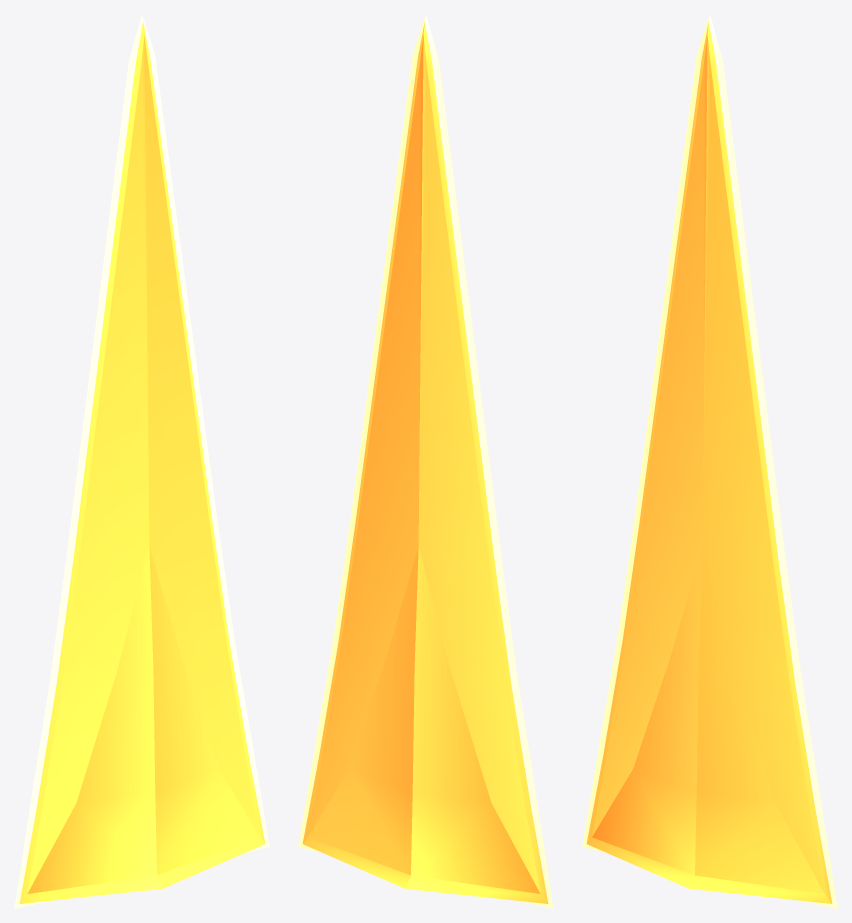
The model's file is gold_blade (2).glb.
3 views of the same model, side by side, from view 1: azimuth 30°, elevation 25°; view 2: azimuth 150°, elevation 25°; view 3: azimuth 330°, elevation 25° (orthographic).
Parts seen in each view (by area): view 1: gold_blade_steel.023; view 2: gold_blade_steel.023; view 3: gold_blade_steel.023.
Boxes of the visible parts, x1,y1,x2,y2 form: gold_blade_steel.023: (14,15,269,908); gold_blade_steel.023: (298,15,553,908); gold_blade_steel.023: (582,15,837,908).
Size of the model in its own units: 3.52 by 11.43 by 0.9907.
Materials: 1 (1 with a texture image).
